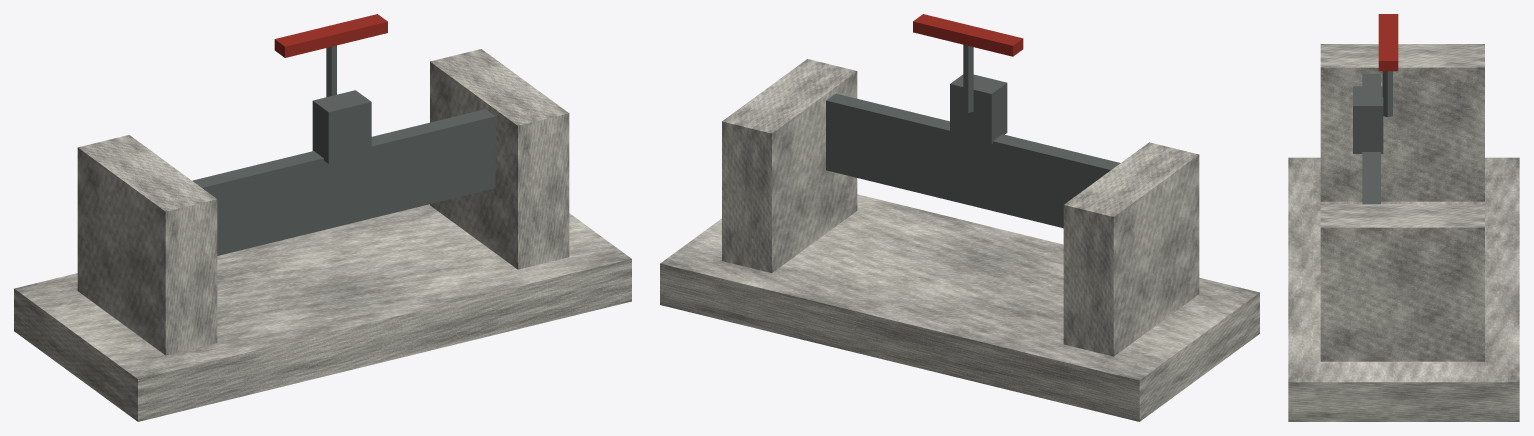
File: valley-irrigation-gate.obj
3 renders of one model, left to right at view 1: azimuth 30°, elevation 25°; view 2: azimuth 150°, elevation 25°; view 3: azimuth 270°, elevation 25°, orthographic. The views are drawn at different scales.
Size of the model in its own units: 2.3 by 1.3 by 1.
Materials: 4 (2 with a texture image).
